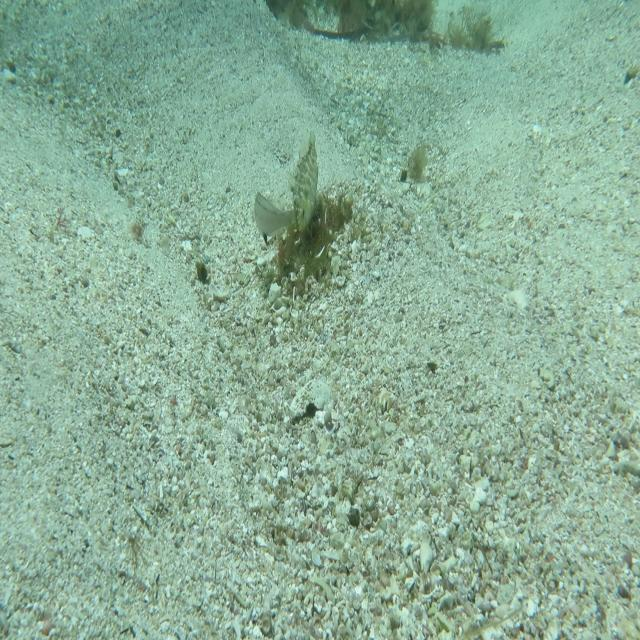ROLL: (283, 127, 323, 237)
female: (252, 182, 300, 251)
nest: (251, 181, 355, 317)
